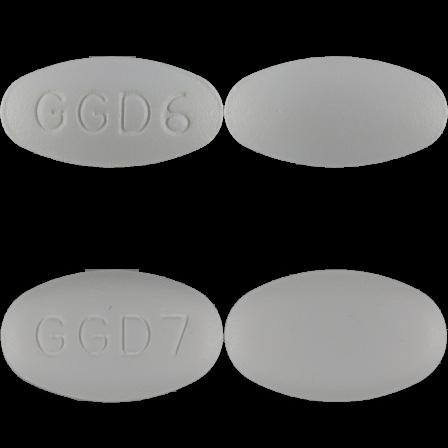0781-1496: (0, 0, 224, 224)
